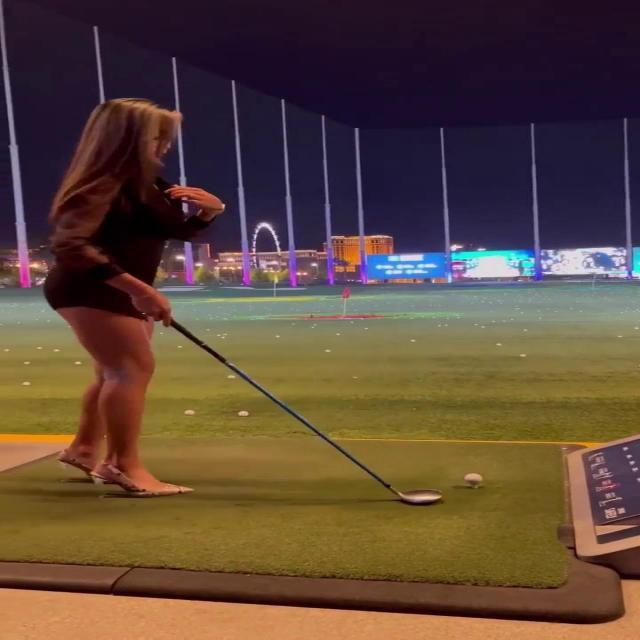golf ball: (462, 473, 485, 485), (237, 410, 252, 417), (184, 410, 197, 417)
golf club-handle: (133, 292, 449, 508)
golf club-head: (399, 490, 448, 507)
